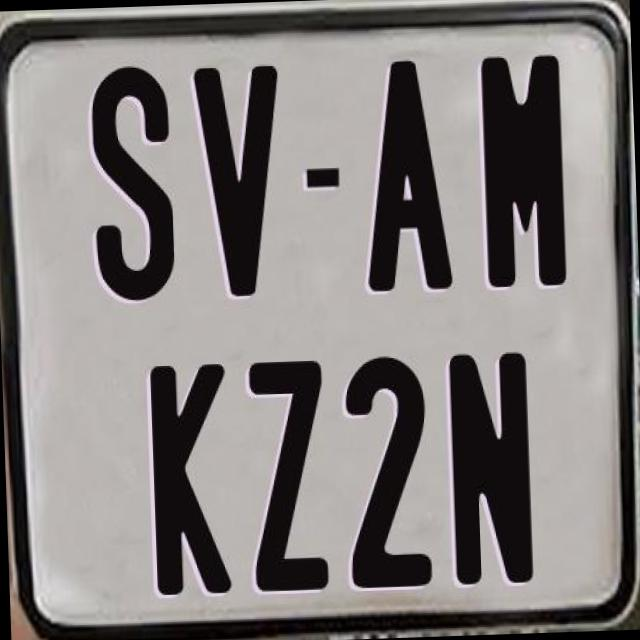2: (340, 354, 432, 586)
A: (358, 59, 456, 293)
K: (146, 358, 228, 598)
M: (480, 51, 570, 287)
N: (444, 350, 534, 582)
S: (88, 63, 179, 299)
V: (192, 66, 286, 306)
Z: (247, 360, 331, 598)
